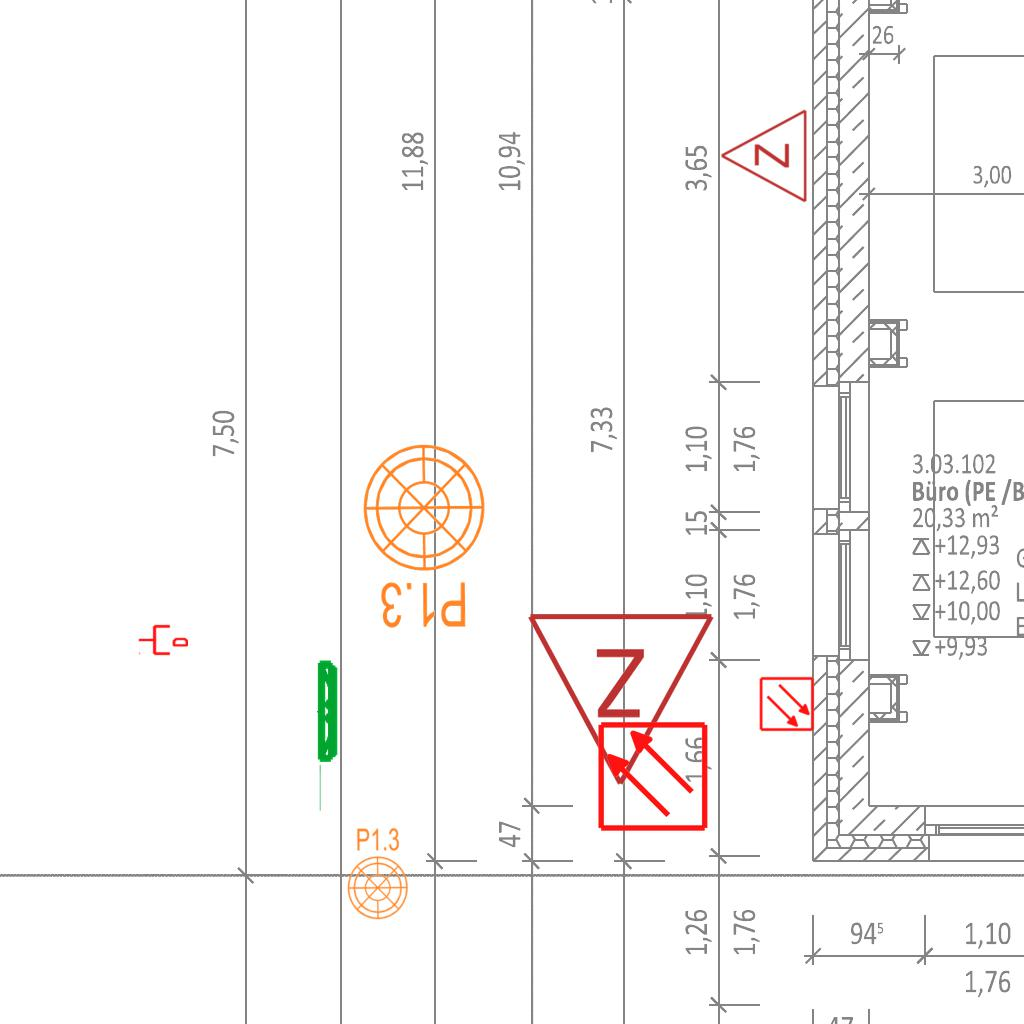Aufbaurundleuchte_LED_Treppenhaus: (349, 441, 488, 646), (346, 819, 415, 921)
Datenanschluss_einfach: (138, 623, 188, 657)
RMO_Rauchmelder_optischer: (596, 720, 709, 833), (759, 676, 815, 732)
Sicherheitsleuchte_Wandeinbau: (316, 657, 341, 816)
Zimmersignalleuchte: (525, 599, 721, 799), (714, 108, 814, 206)
